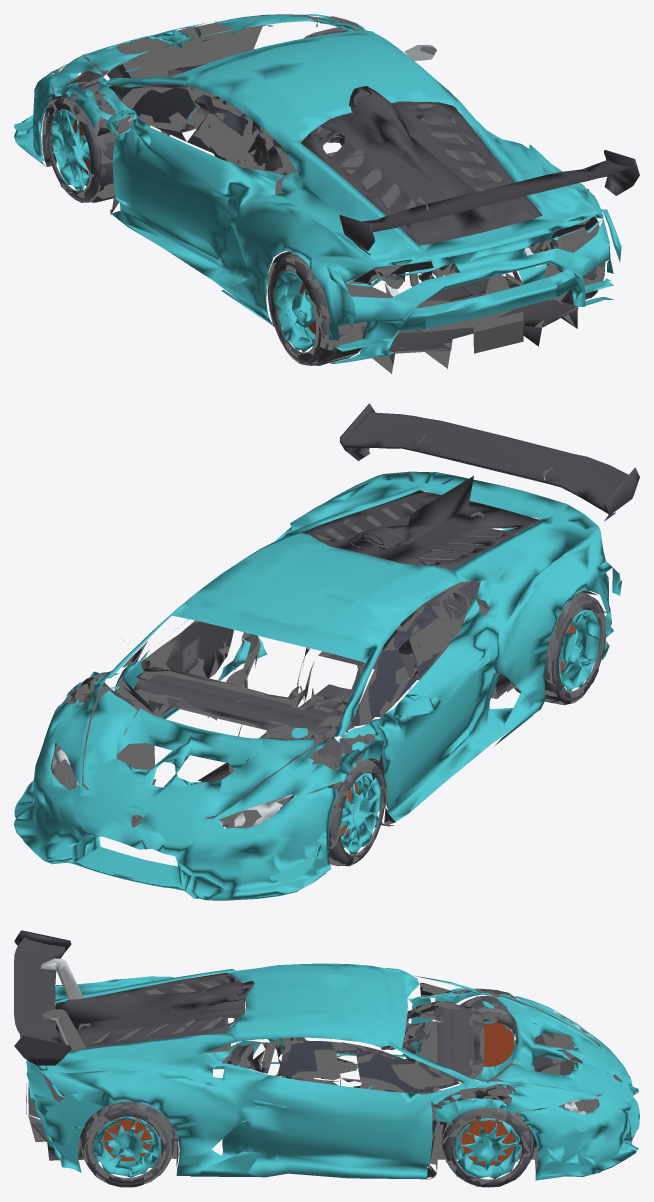
3 views of the same model, one above another, from view 1: azimuth 30°, elevation 25°; view 2: azimuth 150°, elevation 25°; view 3: azimuth 270°, elevation 25° (orthographic). The views are drawn at different scales.
Parts seen in each view (by area): view 1: BodyShell, ActiveRearAero, TrimShell, wheel_fl, wheel_rl; view 2: BodyShell, ActiveRearAero, TrimShell, wheel_rl, wheel_fl; view 3: BodyShell, ActiveRearAero, TrimShell, wheel_fr, wheel_rr, wheel_fl.
Boxes of the visible parts, x1,y1,x2,y2 form: BodyShell: [14, 14, 621, 373]; ActiveRearAero: [301, 86, 639, 255]; TrimShell: [26, 14, 605, 365]; wheel_fl: [46, 95, 120, 202]; wheel_rl: [269, 255, 367, 365]; BodyShell: [14, 467, 621, 900]; ActiveRearAero: [301, 403, 639, 569]; TrimShell: [52, 436, 604, 884]; wheel_rl: [510, 592, 605, 702]; wheel_fl: [329, 758, 385, 865]; BodyShell: [20, 963, 639, 1186]; ActiveRearAero: [14, 930, 254, 1065]; TrimShell: [26, 958, 619, 1187]; wheel_fr: [444, 1107, 533, 1187]; wheel_rr: [80, 1102, 173, 1185]; wheel_fl: [460, 995, 514, 1081].
Size of the model in its own units: 2.21 by 1.21 by 4.54.
